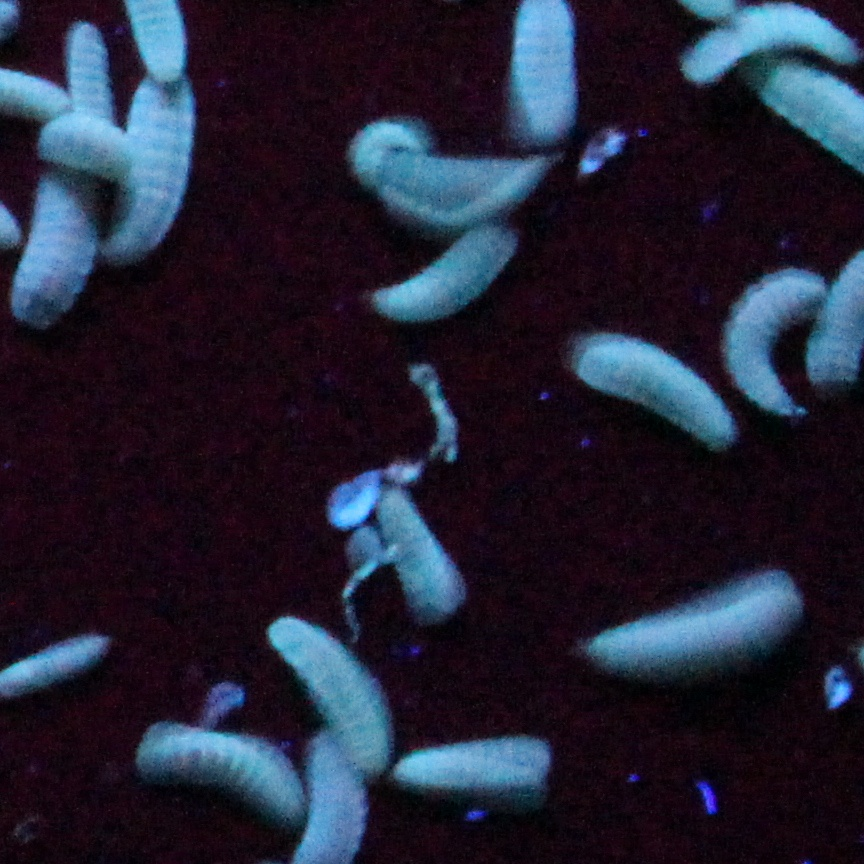larve: (584, 567, 801, 666), (573, 325, 730, 444), (266, 617, 384, 774), (129, 710, 294, 822), (353, 133, 548, 220), (721, 269, 829, 415), (8, 178, 101, 336), (108, 98, 193, 265), (376, 226, 517, 323), (371, 487, 458, 618), (398, 733, 550, 785), (1, 636, 107, 696), (38, 119, 132, 177), (67, 23, 108, 117)
